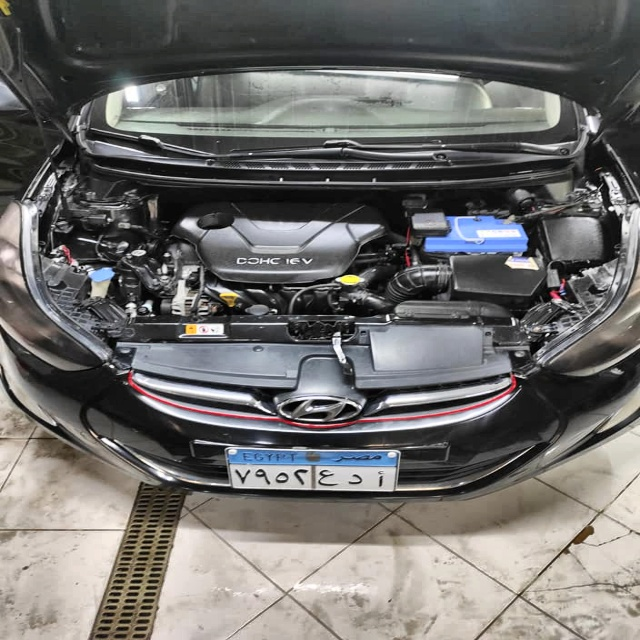License Plate: (224, 445, 403, 495)
